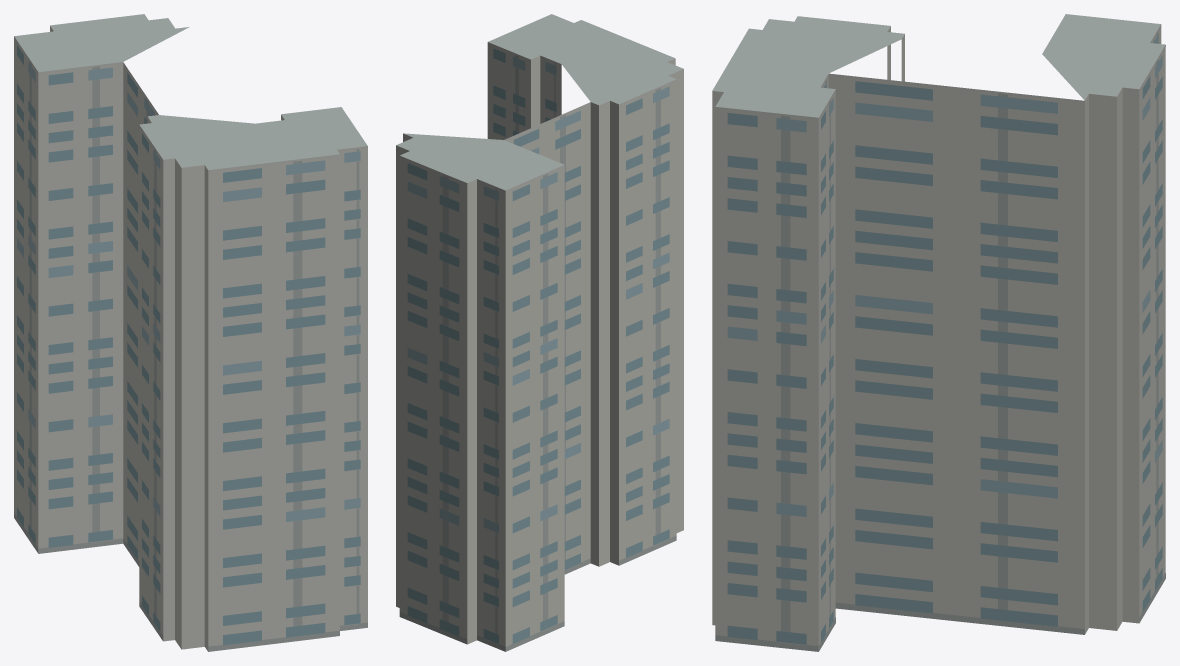
The model's file is residential-7aee47a0-3c19-4144-b745-7af6f6864f76.glb.
3 renders of one model, left to right at view 1: azimuth 30°, elevation 25°; view 2: azimuth 150°, elevation 25°; view 3: azimuth 270°, elevation 25°, orthographic. The views are drawn at different scales.
Visible parts, largest first — view 1: residential-7aee47a0-3c19-4144-b745-7af6f6864f76.tmp; view 2: residential-7aee47a0-3c19-4144-b745-7af6f6864f76.tmp; view 3: residential-7aee47a0-3c19-4144-b745-7af6f6864f76.tmp.
Boxes of the visible parts, x1=… form: residential-7aee47a0-3c19-4144-b745-7af6f6864f76.tmp: x1=14, y1=14, x2=367, y2=651; residential-7aee47a0-3c19-4144-b745-7af6f6864f76.tmp: x1=396, y1=14, x2=683, y2=651; residential-7aee47a0-3c19-4144-b745-7af6f6864f76.tmp: x1=712, y1=14, x2=1165, y2=651.
Size of the model in its own units: 28.33 by 68 by 52.34.
